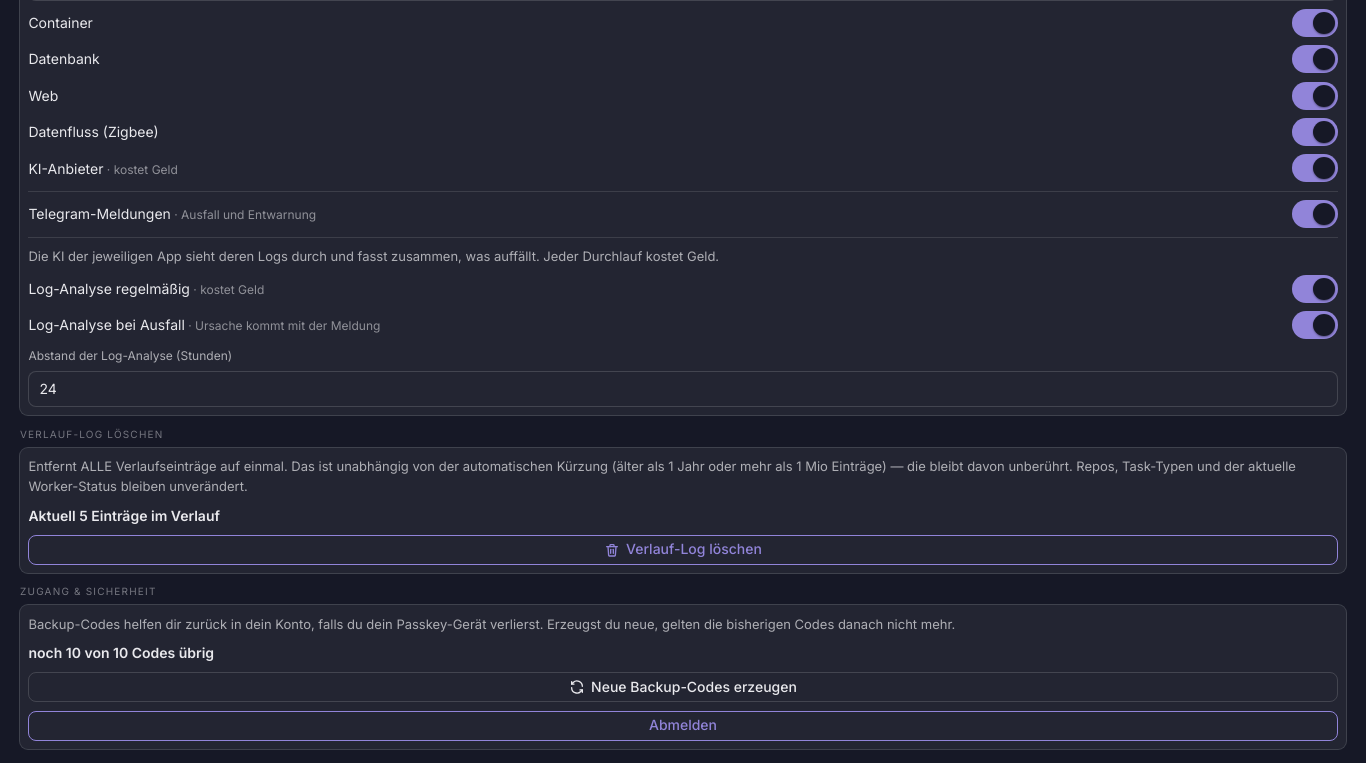
it: Einstellungen — Verlauf-Log löschen › AC: cancelling deletes nothing
(page scrolled)
Expected: the text "Aktuell 5 Einträge im Verlauf" is shown, [28,507,220,524]
Click the button "Verlauf-Log löschen". click: (683, 550)
box: [28,535,1338,565]
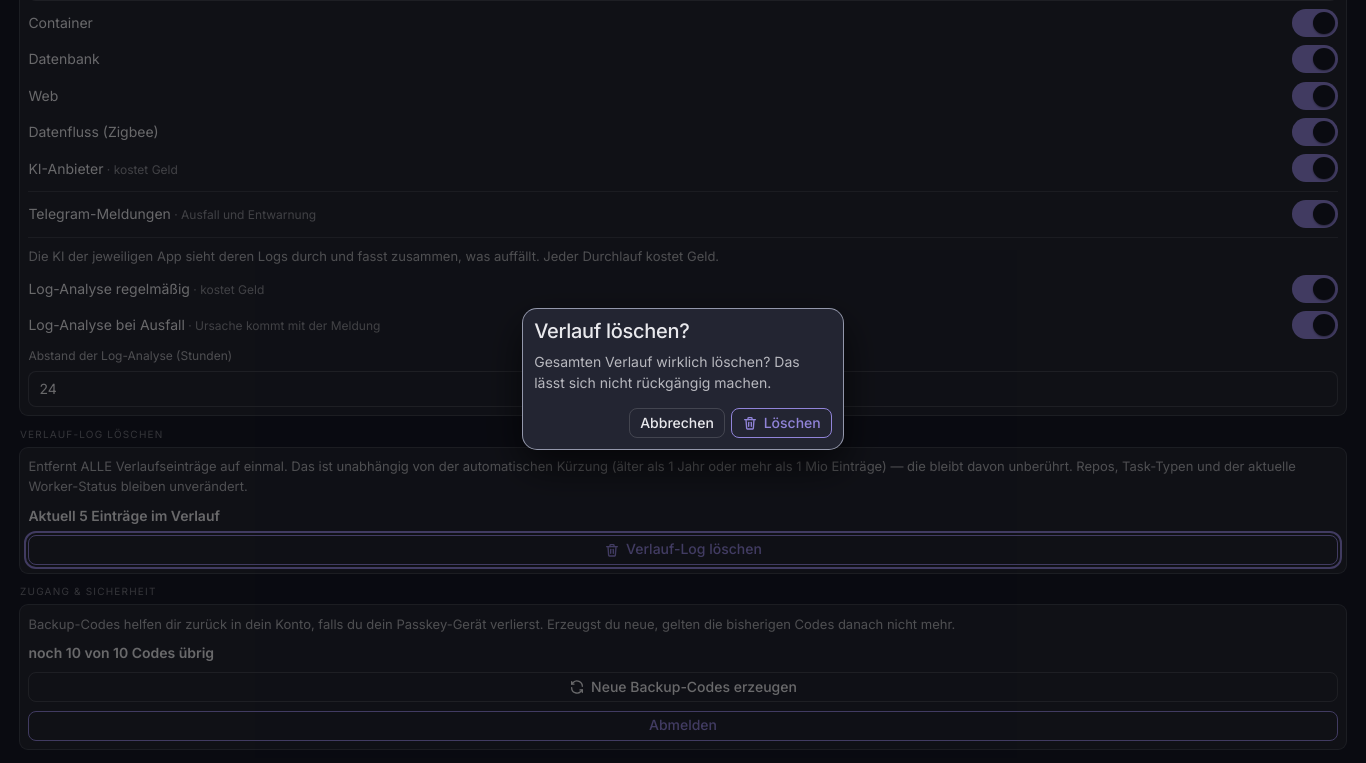
Click the button "Abbrechen". click: (677, 423)
box: [629,408,725,438]
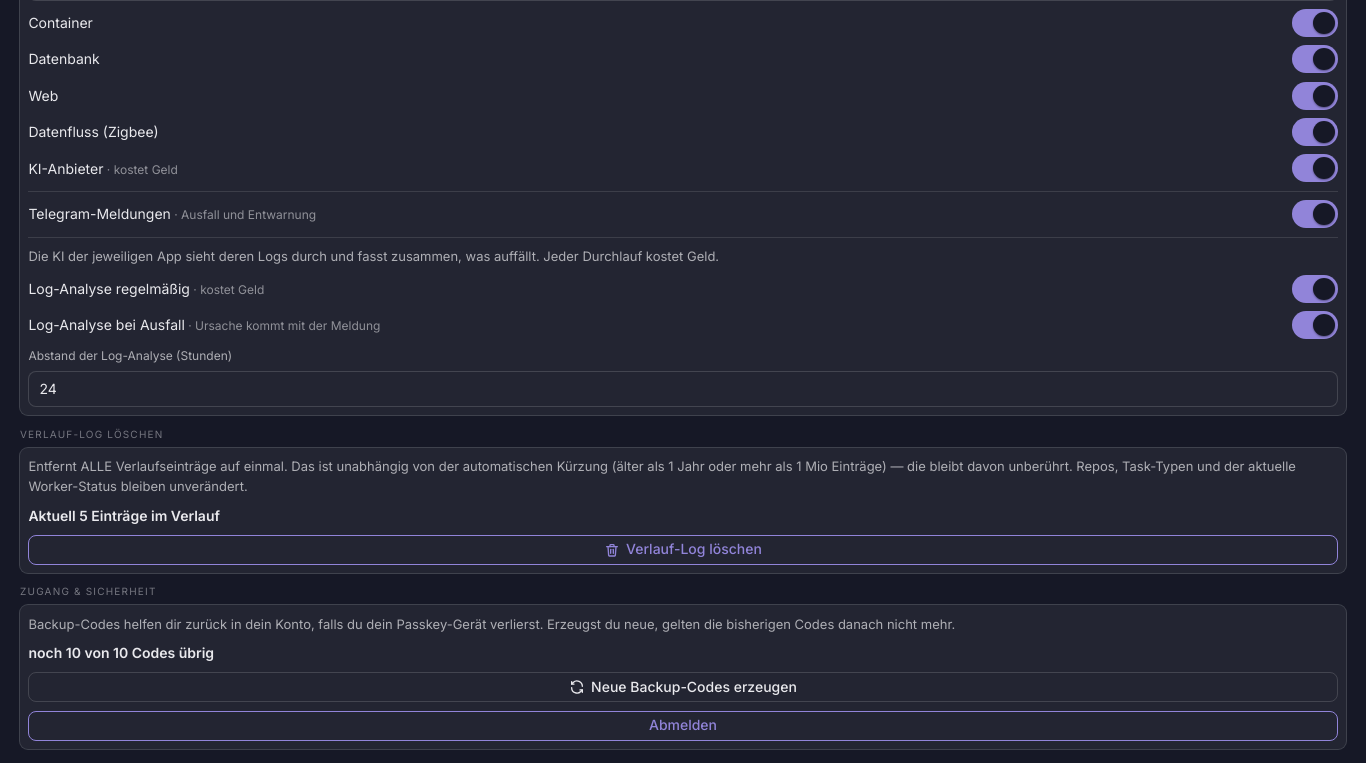
Expected: the text "Aktuell 5 Einträge im Verlauf" is shown, [28,507,220,524]
Expected: the dialog is gone
